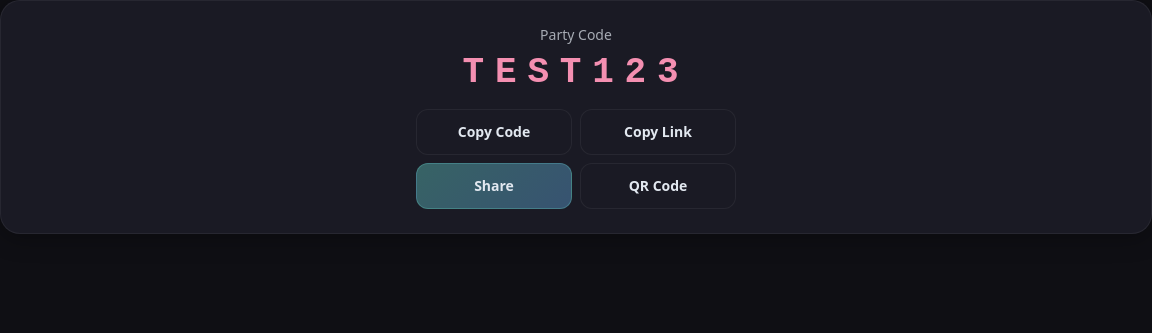
Test: PartyCode Component › QR Code › handles QR generation failure gracefully
The image size is (1152, 333).
Click the button "QR Code" at (658, 186), box [580, 163, 736, 209]
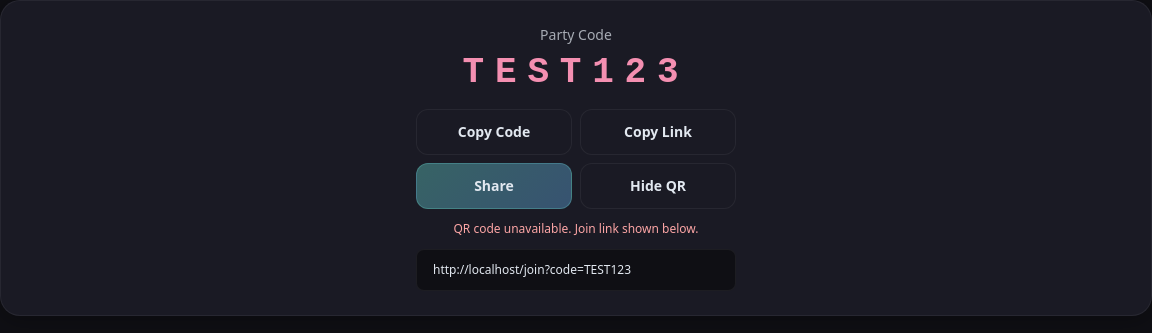
Check: the text "QR code unavailable. Join link shown below." is shown, box [454, 220, 698, 237]
